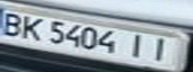0: (78, 25, 100, 52)
4: (96, 27, 121, 55), (63, 23, 81, 48)
5: (42, 18, 66, 46)
B: (0, 9, 27, 36)
I: (142, 34, 184, 63), (121, 30, 154, 60)
K: (15, 12, 48, 42)
